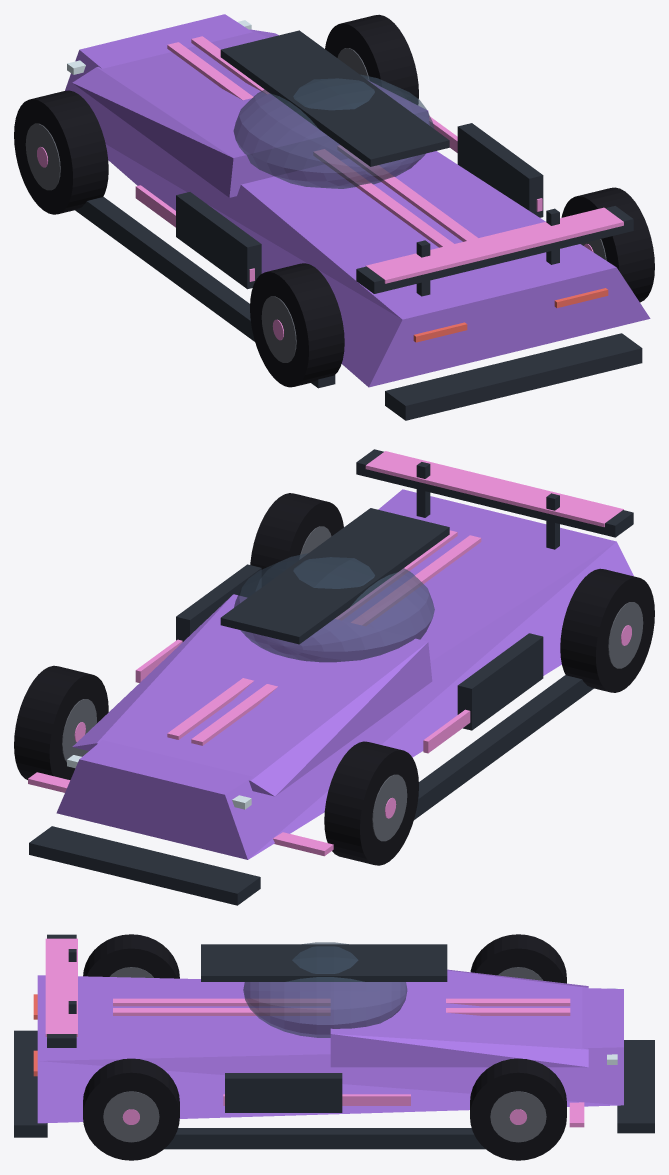
File: vortex_rs.glb
3 views of the same model, one above another, from view 1: azimuth 30°, elevation 25°; view 2: azimuth 150°, elevation 25°; view 3: azimuth 270°, elevation 25° (orthographic). The views are drawn at different scales.
Parts seen in each view (by area): view 1: body_chassis, hood_slope, carbon_roof_spine, dark_cockpit_canopy, rear_diffuser, left_rear_tire, left_front_tire, left_side_skirt, rear_spoiler_accent, right_front_tire, left_side_intake, right_rear_tire (+7 smaller); view 2: body_chassis, hood_slope, carbon_roof_spine, dark_cockpit_canopy, left_front_tire, left_rear_tire, front_splitter, right_front_tire, left_side_skirt, rear_spoiler_accent, right_rear_tire, left_side_intake (+9 smaller); view 3: body_chassis, hood_slope, carbon_roof_spine, dark_cockpit_canopy, right_side_skirt, right_rear_tire, right_front_tire, right_side_intake, front_splitter, left_front_tire, left_rear_tire, rear_spoiler_accent (+10 smaller).
Boxes of the visible parts, x1,y1,x2,y2 form: body_chassis: (65,14,650,387); hood_slope: (72,29,429,197); carbon_roof_spine: (220,30,449,166); dark_cockpit_canopy: (233,74,434,188); rear_diffuser: (385,333,642,420); left_rear_tire: (250,263,344,387); left_front_tire: (14,90,108,214); left_side_skirt: (75,197,335,388); rear_spoiler_accent: (365,207,623,283); right_front_tire: (325,14,418,104); left_side_intake: (176,192,261,289); right_rear_tire: (561,187,654,302); body_chassis: (56,489,633,859); hood_slope: (72,594,432,796); carbon_roof_spine: (220,508,449,644); dark_cockpit_canopy: (234,553,434,662); left_front_tire: (324,741,418,865); left_rear_tire: (560,568,654,692); front_splitter: (29,826,260,905); right_front_tire: (14,665,108,779); left_side_skirt: (414,675,593,819); rear_spoiler_accent: (365,451,623,527); right_rear_tire: (250,493,343,586); left_side_intake: (457,633,543,730); body_chassis: (37,975,623,1123); hood_slope: (330,969,588,1067); carbon_roof_spine: (201,944,447,981); dark_cockpit_canopy: (243,942,407,1037); right_side_skirt: (164,1128,485,1149); right_rear_tire: (83,1058,179,1160); right_front_tire: (470,1058,566,1160); right_side_intake: (225,1073,342,1112); front_splitter: (617,1040,654,1133); left_front_tire: (470,934,566,983); left_rear_tire: (83,934,179,978); rear_spoiler_accent: (45,938,77,1036).
Bounding box in the file's own units: 2.45 × 1.1 × 4.75.
